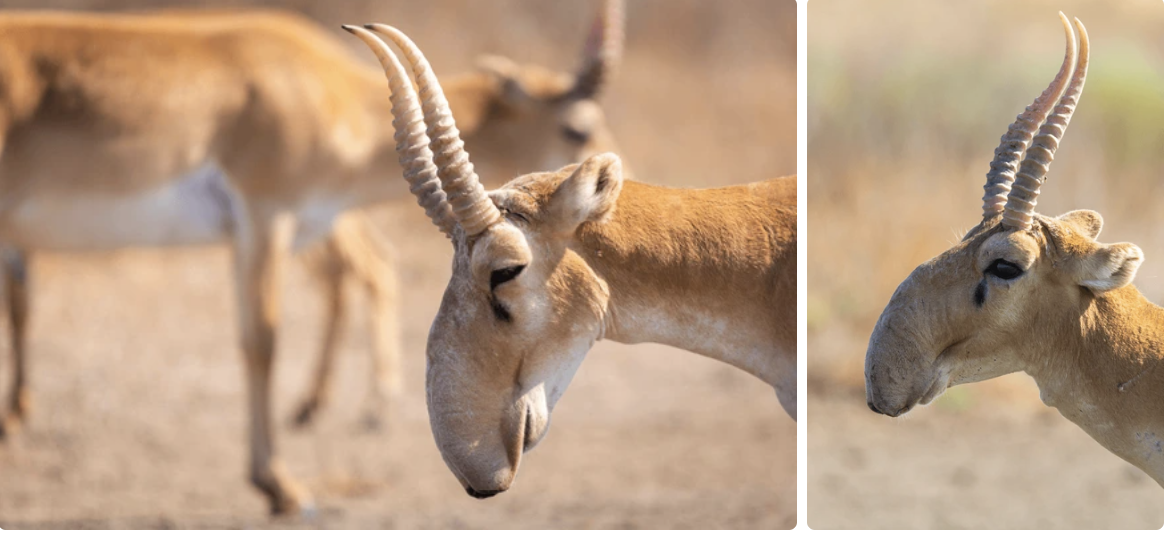saiga: (349, 13, 790, 511), (864, 11, 1166, 507)
